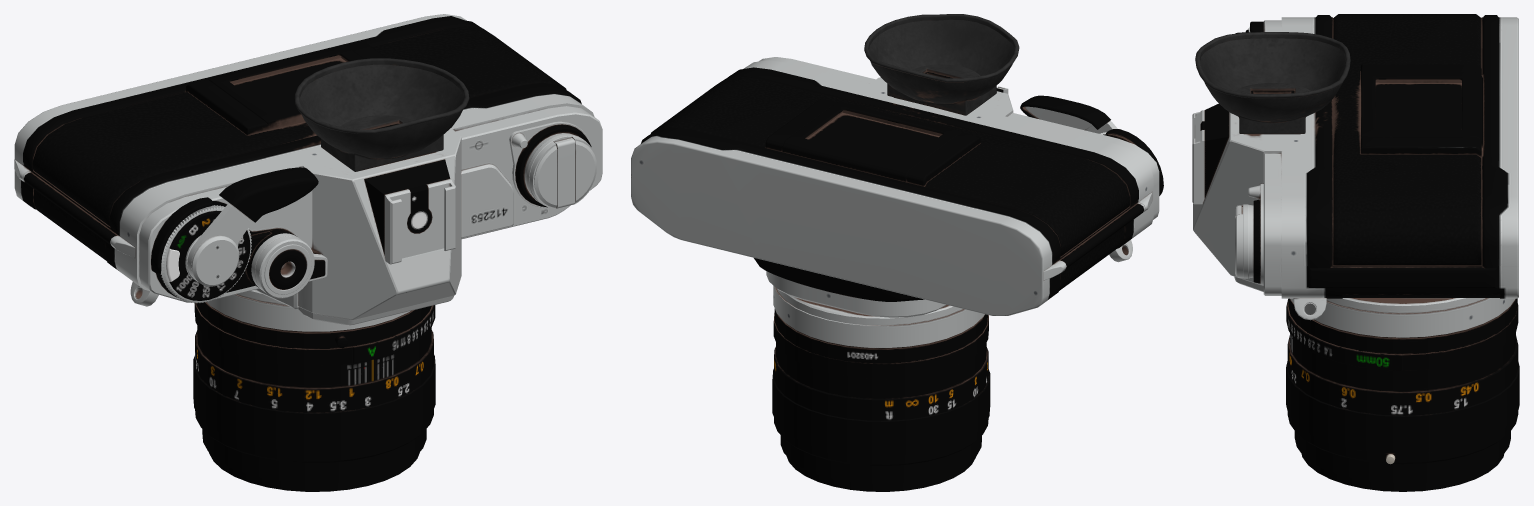
3 renders of one model, left to right at view 1: azimuth 30°, elevation 25°; view 2: azimuth 150°, elevation 25°; view 3: azimuth 270°, elevation 25°, orthographic. The views are drawn at different scales.
Parts seen in each view (by area): view 1: #CAM0001_Body_#CAM0001_Textures_0, #CAM0001_Film_Advance_#CAM0001_Textures_0, #CAM0001_Spool_#CAM0001_Textures_0, #CAM0001_Shutter_Speed_#CAM0001_Textures_0, #CAM0001_Shutter_#CAM0001_Textures_0, #CAM0001_Battery_Check_#CAM0001_Textures_0; view 2: #CAM0001_Body_#CAM0001_Textures_0, #CAM0001_Film_Advance_#CAM0001_Textures_0; view 3: #CAM0001_Body_#CAM0001_Textures_0, #CAM0001_Spool_#CAM0001_Textures_0, #CAM0001_Battery_Check_#CAM0001_Textures_0.
Boxes of the visible parts, bbox=[...] form: #CAM0001_Body_#CAM0001_Textures_0: bbox=[14, 14, 602, 491]; #CAM0001_Film_Advance_#CAM0001_Textures_0: bbox=[187, 167, 318, 281]; #CAM0001_Spool_#CAM0001_Textures_0: bbox=[524, 133, 597, 208]; #CAM0001_Shutter_Speed_#CAM0001_Textures_0: bbox=[160, 205, 251, 303]; #CAM0001_Shutter_#CAM0001_Textures_0: bbox=[251, 233, 327, 298]; #CAM0001_Battery_Check_#CAM0001_Textures_0: bbox=[509, 121, 591, 207]; #CAM0001_Body_#CAM0001_Textures_0: bbox=[631, 14, 1163, 491]; #CAM0001_Film_Advance_#CAM0001_Textures_0: bbox=[1020, 95, 1117, 133]; #CAM0001_Body_#CAM0001_Textures_0: bbox=[1192, 14, 1519, 491]; #CAM0001_Spool_#CAM0001_Textures_0: bbox=[1235, 204, 1253, 278]; #CAM0001_Battery_Check_#CAM0001_Textures_0: bbox=[1248, 184, 1263, 285].
Size of the model in its own units: 0.1439 by 0.1182 by 0.0898.
1 material, 1 textured.
